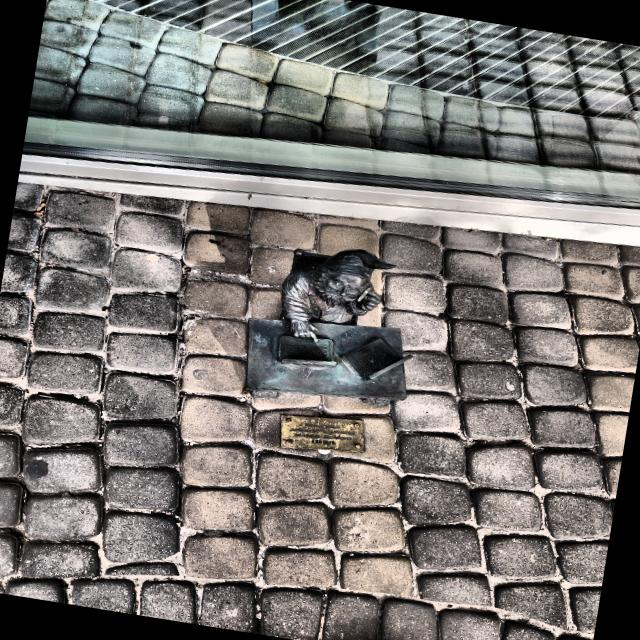WIZek: (246, 249, 410, 405)
